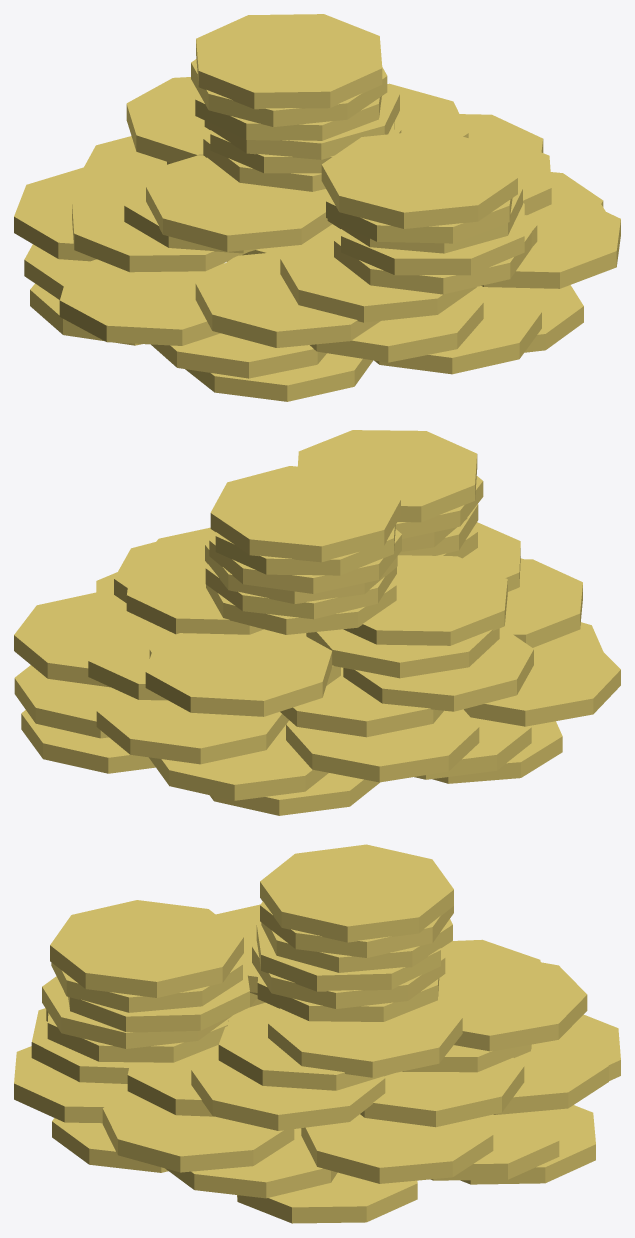
Rendered from Coins.fbx.
3 views of the same model, one above another, from view 1: azimuth 30°, elevation 25°; view 2: azimuth 150°, elevation 25°; view 3: azimuth 270°, elevation 25° (orthographic). The views are drawn at different scales.
Parts seen in each view (by area): view 1: Цилиндр.045; view 2: Цилиндр.045; view 3: Цилиндр.045.
Part boxes in pixels (x1,y1,x2,y2): Цилиндр.045: [14, 14, 620, 401]; Цилиндр.045: [14, 430, 620, 815]; Цилиндр.045: [14, 844, 620, 1223].
Size of the model in its own units: 208 by 76.04 by 205.
